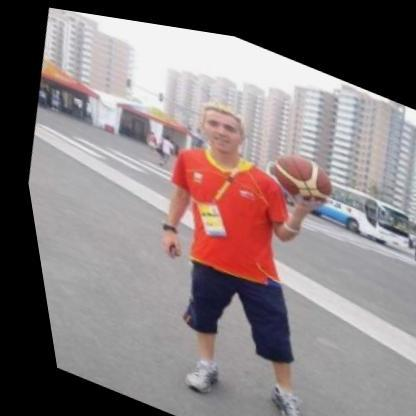basketball: (256, 129, 343, 208)
